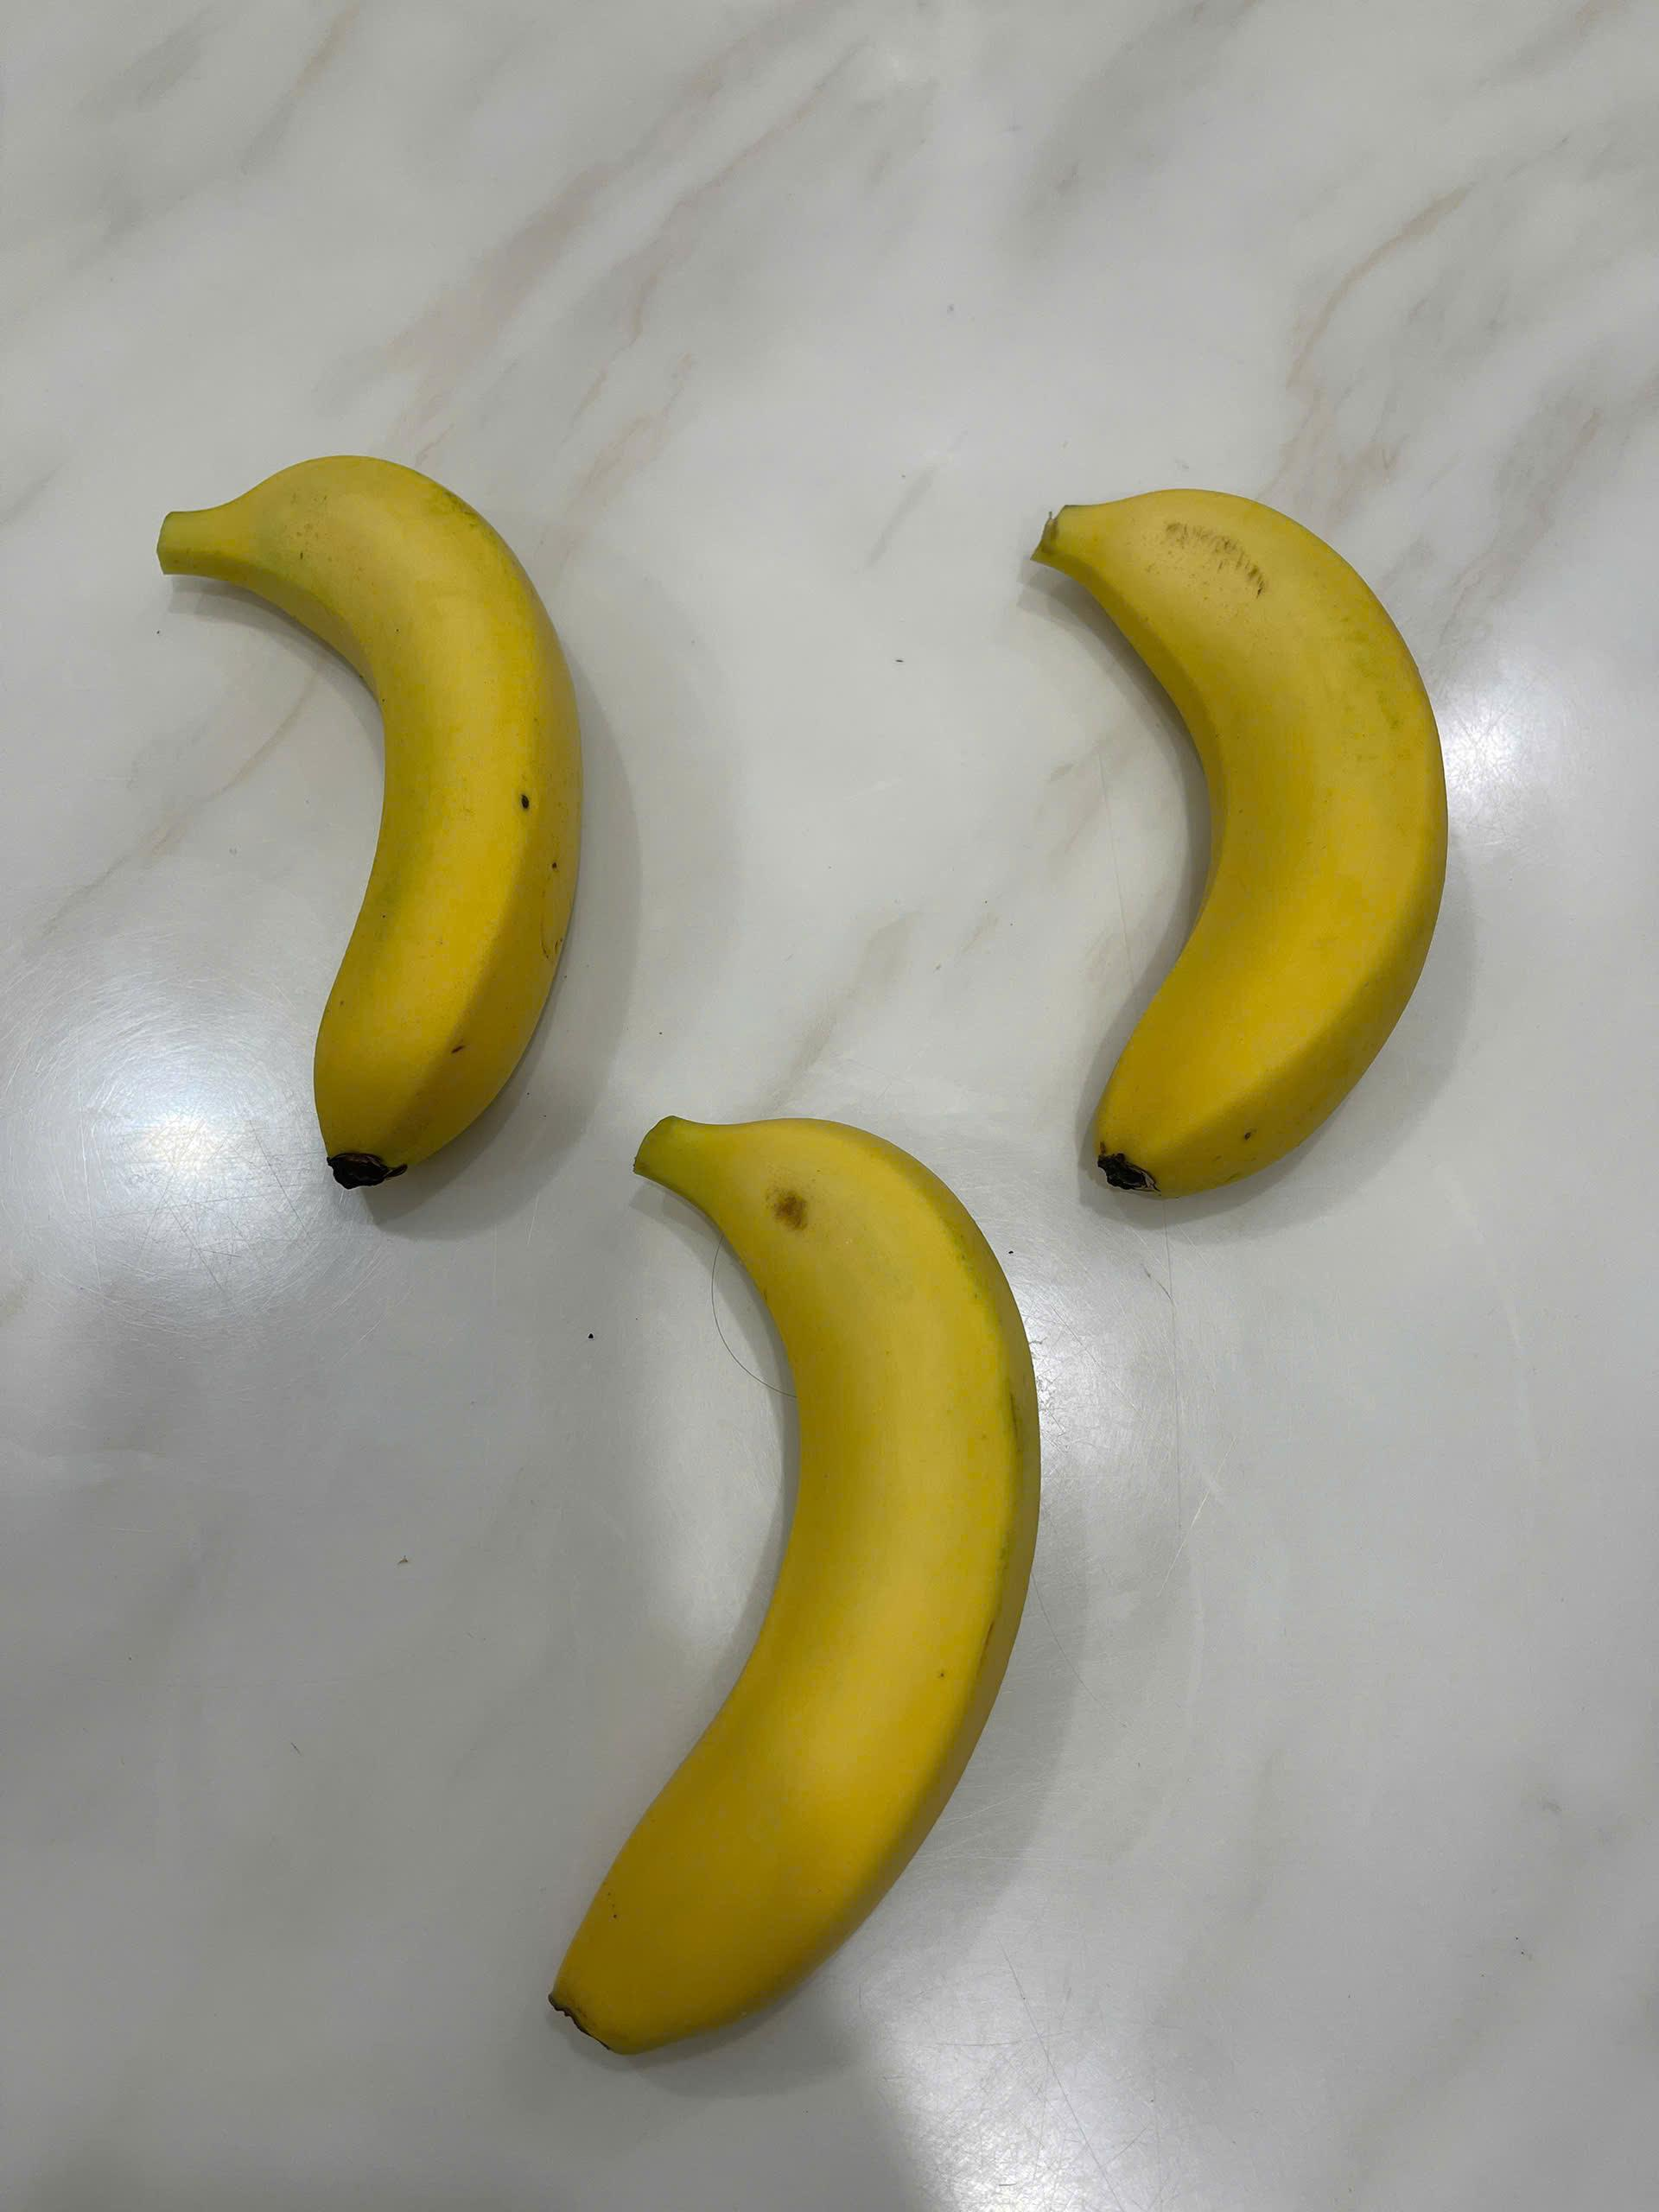banana: (504, 1066, 1094, 2111), (124, 427, 613, 1214), (1007, 441, 1485, 1230)
